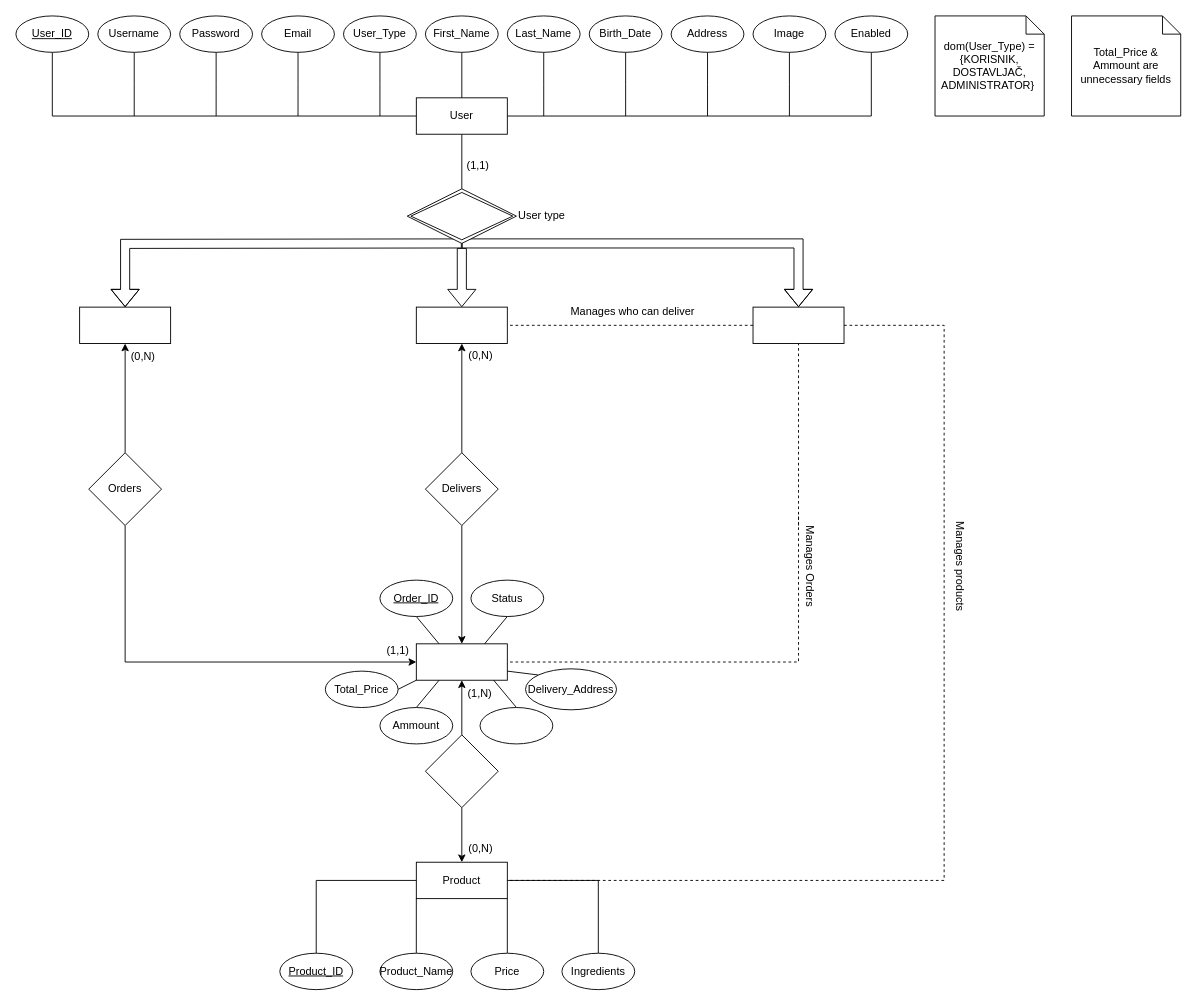
Some shapes in this 1197 by 1006 pixel diagram are drawn without their labels. The centre of each missing label's shape, as x and y in pixels:
"ADMINISTRATOR" belongs at [798,325].
"Comment" belongs at [516,725].
"Contains" belongs at [461,771].
"DOSTAVLJAČ" belongs at [461,325].
"IS-A" belongs at [461,215].
"KORISNIK" belongs at [125,325].
"Order" belongs at [461,661].
